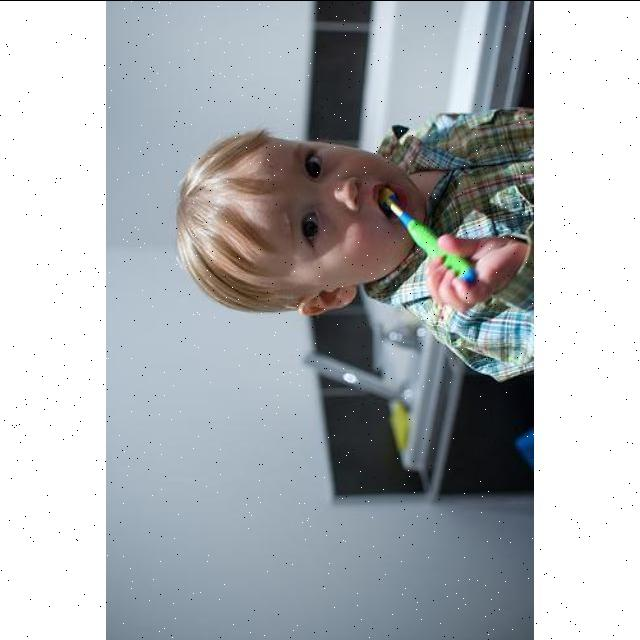toothbrush: (358, 0, 506, 468), (379, 188, 478, 280)
